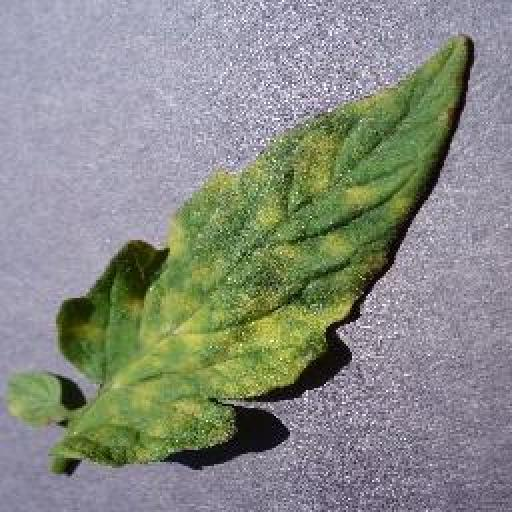Leaf Mold: (7, 31, 470, 469)
